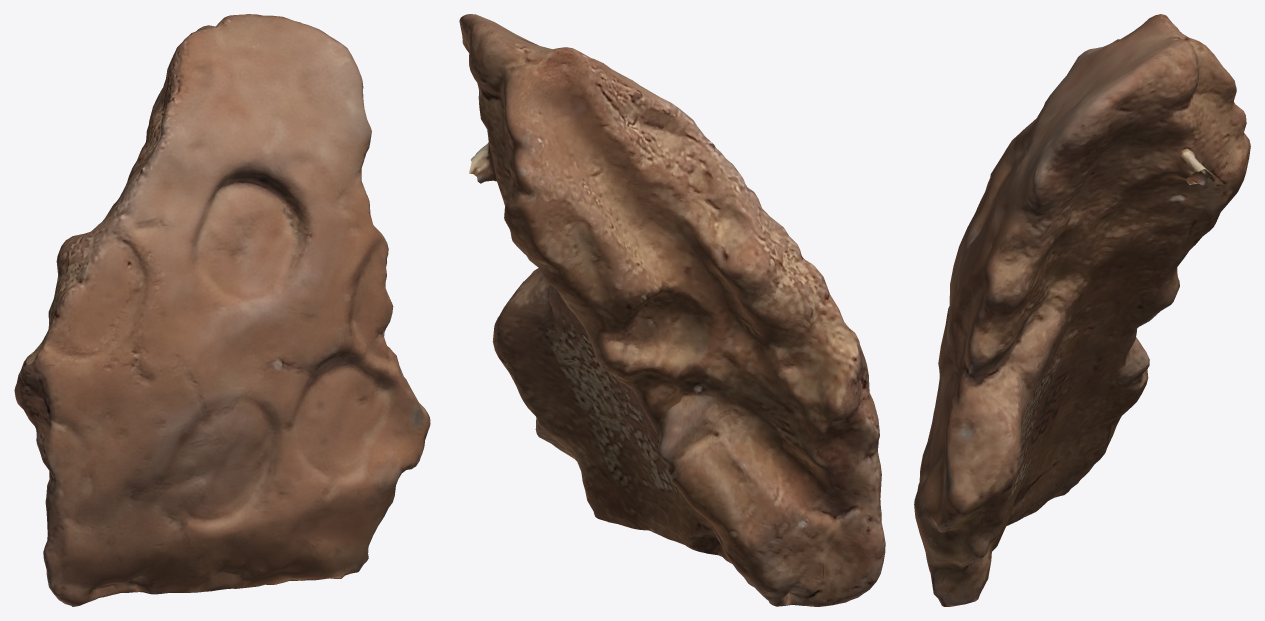
File: Kapaki2.fbx
The picture shows the model from 3 angles, left to right: view 1: azimuth 30°, elevation 25°; view 2: azimuth 150°, elevation 25°; view 3: azimuth 270°, elevation 25°; orthographic projection. The views are drawn at different scales.
Visible parts, largest first — view 1: Kapaki2-36173-video; view 2: Kapaki2-36173-video; view 3: Kapaki2-36173-video.
Part boxes in pixels (<box>): Kapaki2-36173-video: <box>14,14,430,606</box>; Kapaki2-36173-video: <box>459,14,885,606</box>; Kapaki2-36173-video: <box>914,14,1250,606</box>.
Size of the model in its own units: 7.79 by 5.49 by 9.97.
1 material, 1 textured.
